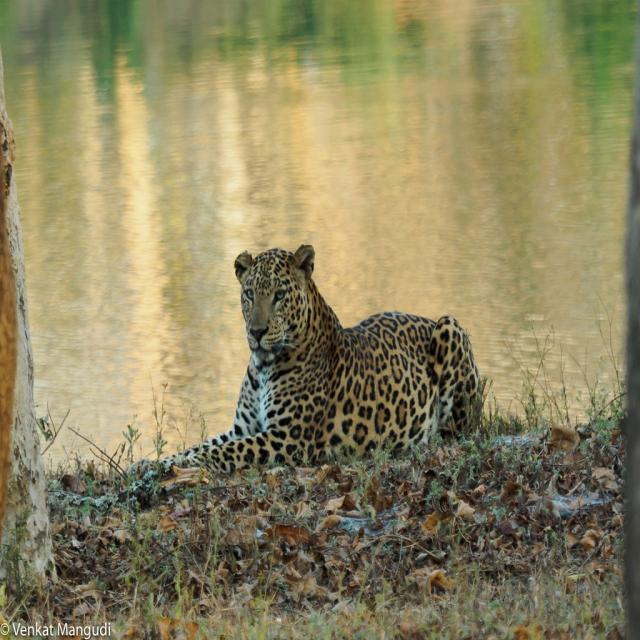Leopard: (130, 247, 482, 487)
